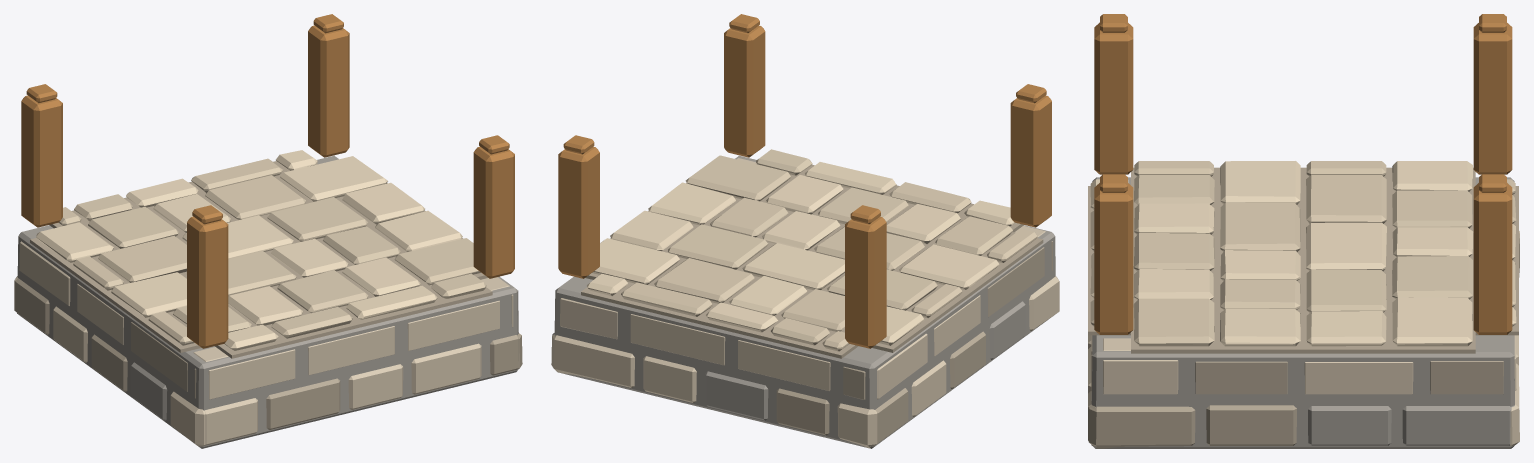
The model's file is landing.glb.
3 renders of one model, left to right at view 1: azimuth 30°, elevation 25°; view 2: azimuth 150°, elevation 25°; view 3: azimuth 270°, elevation 25°, orthographic. The views are drawn at different scales.
Parts seen in each view (by area): view 1: landing; view 2: landing; view 3: landing.
Part boxes in pixels (x1,y1,x2,y2): landing: [14, 14, 522, 448]; landing: [551, 14, 1059, 448]; landing: [1088, 14, 1519, 448].
Bounding box in the file's own units: 2.01 × 1.34 × 2.01.
